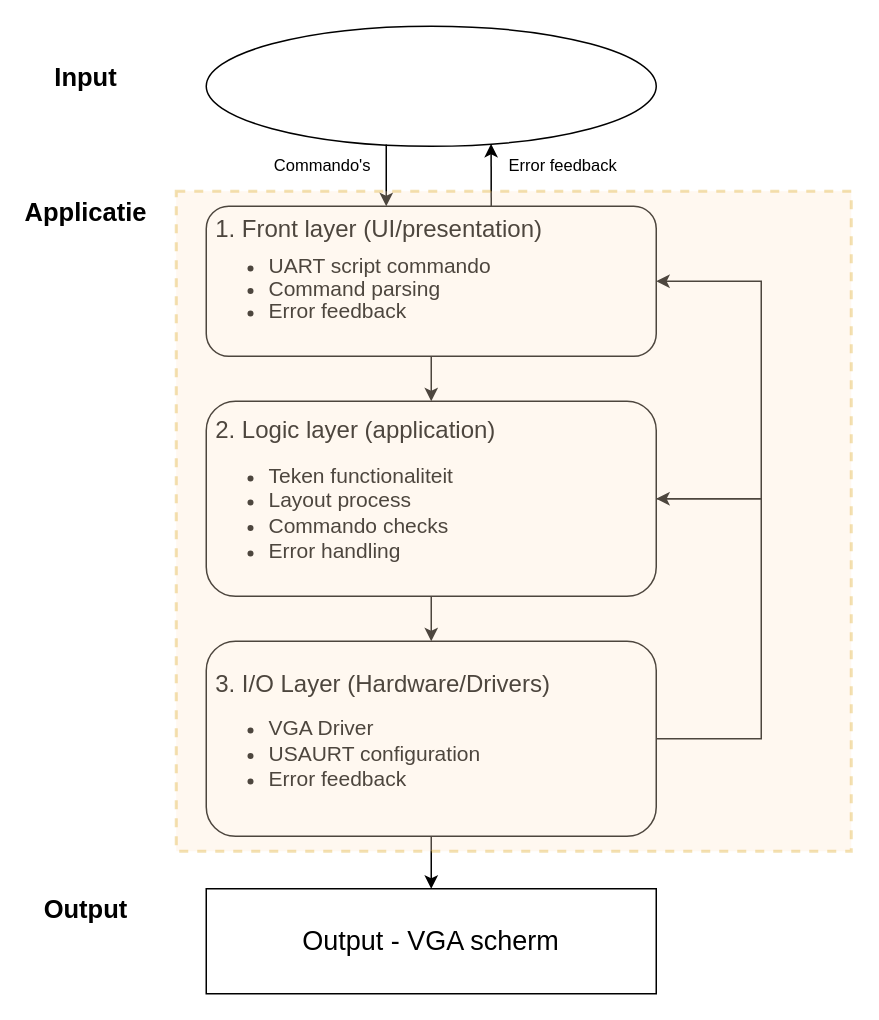
This 879x1020 diagram has some shape labels left out. The centre of each missing label's shape, as x and y in pixels:
"Error handling" goes at pixel 513 520.
"Input script" goes at pixel 430 85.
